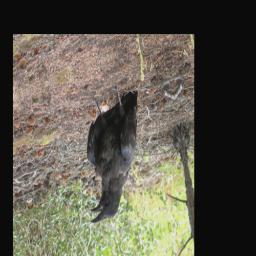Crow: (71, 75, 156, 228)
